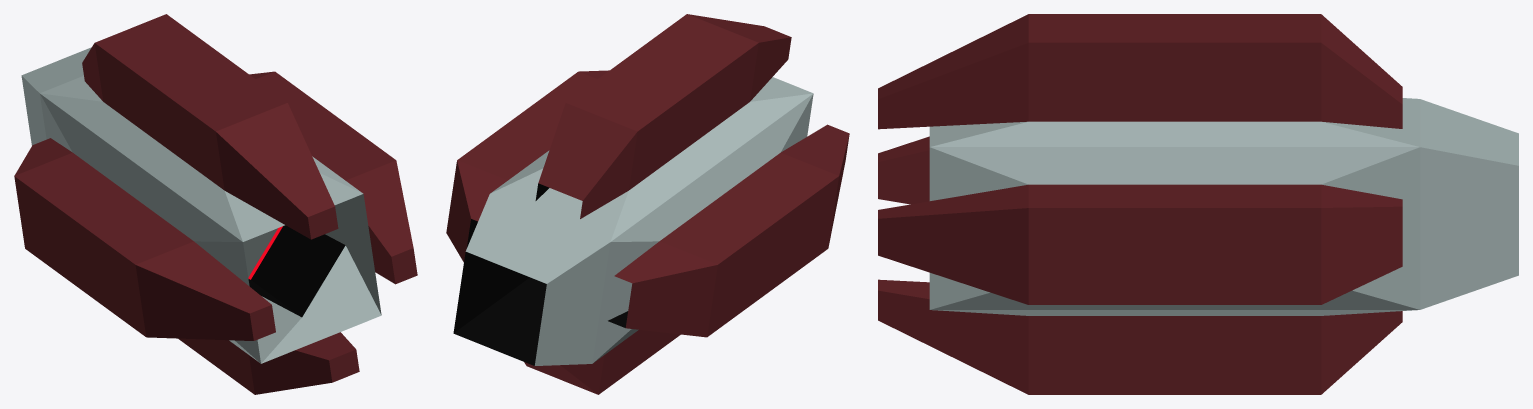
Rendered from character_gun.glb.
3 renders of one model, left to right at view 1: azimuth 30°, elevation 25°; view 2: azimuth 150°, elevation 25°; view 3: azimuth 270°, elevation 25°, orthographic. The views are drawn at different scales.
Visible parts, largest first — view 1: Cube.003; view 2: Cube.003; view 3: Cube.003.
Boxes of the visible parts, box(x1,y1,x2,y2) form: Cube.003: box(14, 14, 417, 394); Cube.003: box(446, 14, 849, 394); Cube.003: box(878, 14, 1518, 394).
Size of the model in its own units: 1.54 by 1.54 by 2.61.
